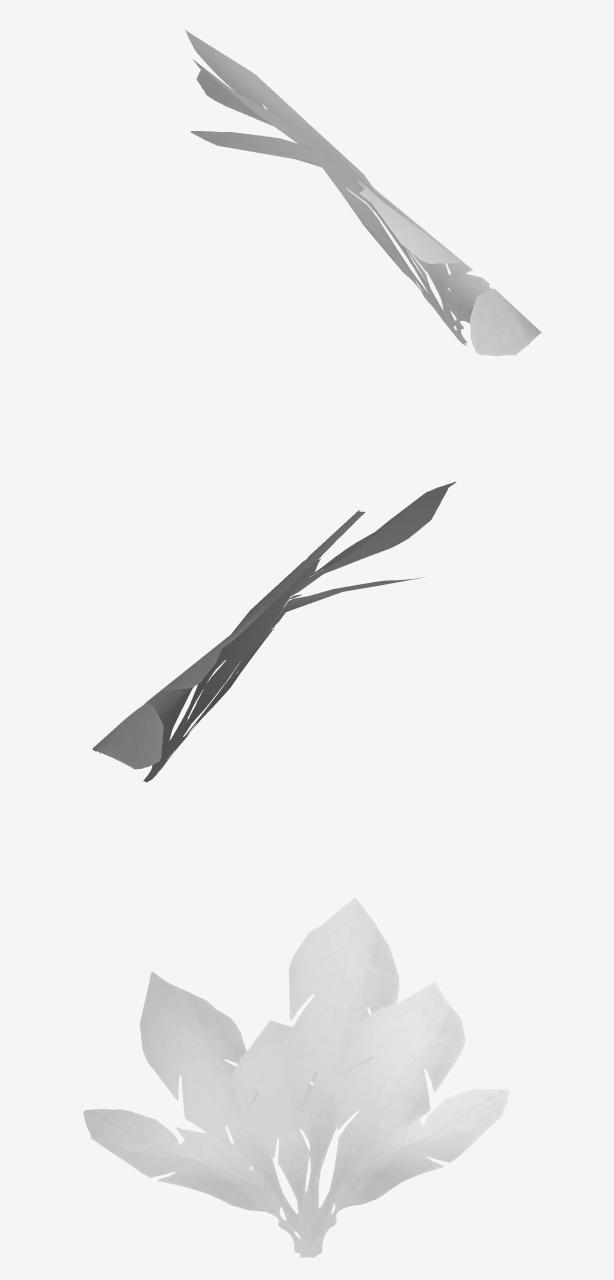
File: TallGrass_1.fbx
3 views of the same model, one above another, from view 1: azimuth 30°, elevation 25°; view 2: azimuth 150°, elevation 25°; view 3: azimuth 270°, elevation 25° (orthographic). The views are drawn at different scales.
Visible parts, largest first — view 1: TallGrass_1; view 2: TallGrass_1; view 3: TallGrass_1.
Boxes of the visible parts, x1,y1,x2,y2 form: TallGrass_1: (185,30,541,355); TallGrass_1: (92,481,456,782); TallGrass_1: (83,897,509,1257).
Bounding box in the file's own units: 1.41 × 1.75 × 3.33.
